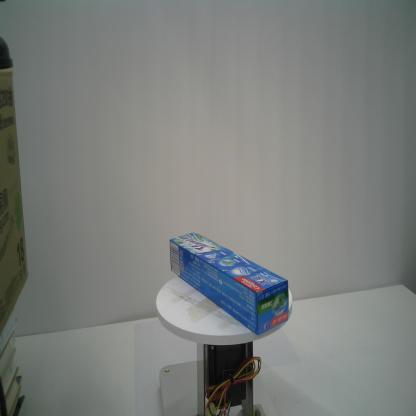Personal Hygiene: (170, 232, 289, 336)
